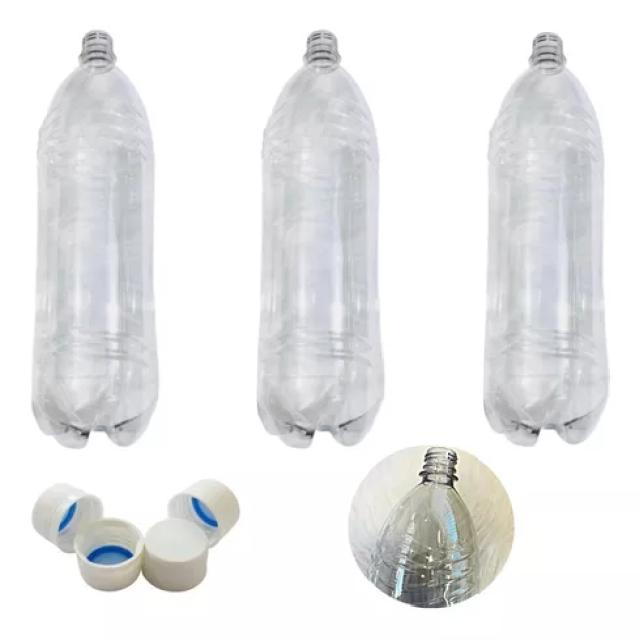bottle: (32, 31, 158, 447), (257, 31, 383, 447), (484, 33, 609, 445), (370, 447, 478, 606)
